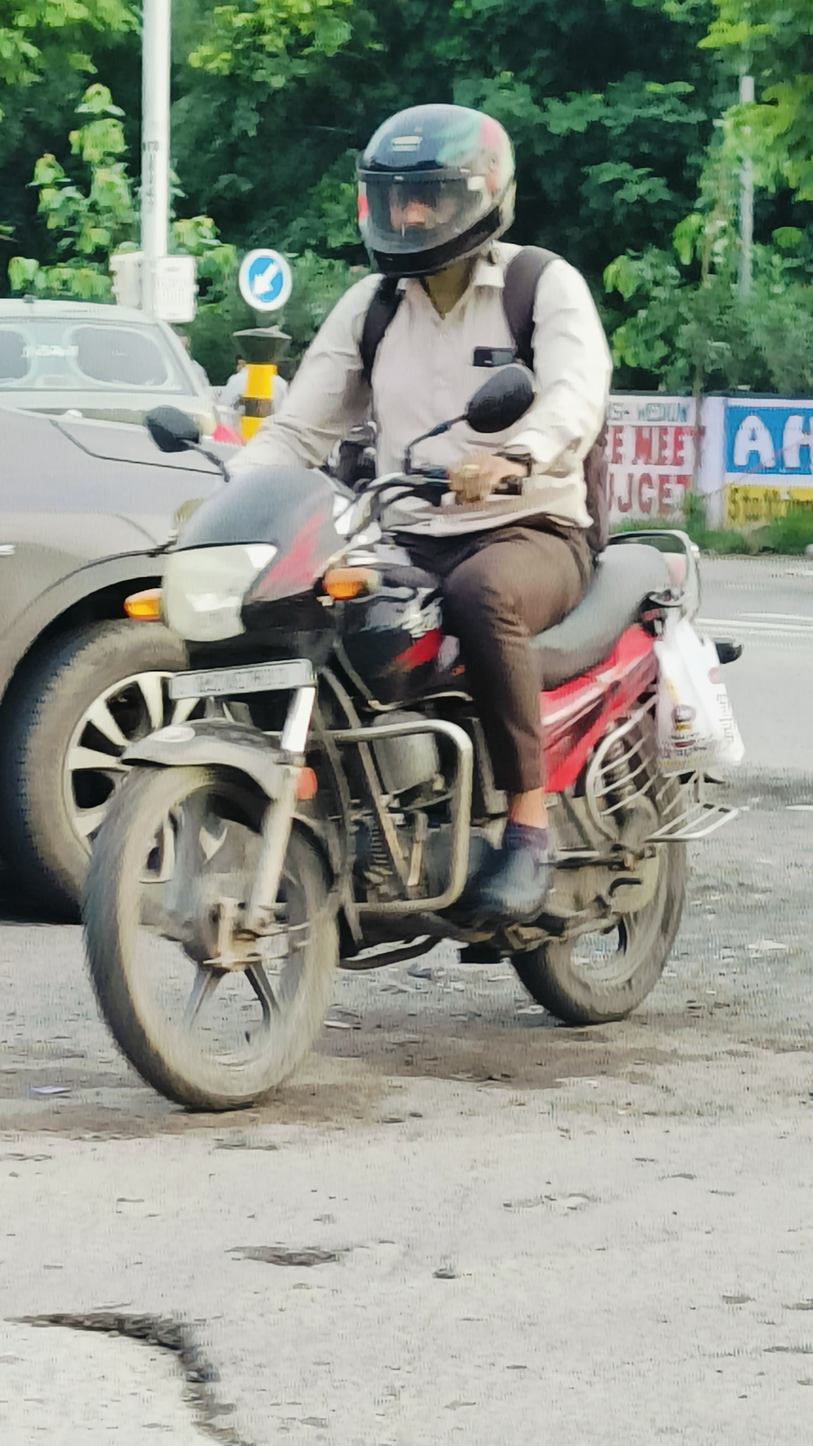BikeWithRider: (64, 88, 771, 1121)
Helmet: (332, 91, 533, 286)
